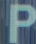Parking: (6, 2, 33, 43)
